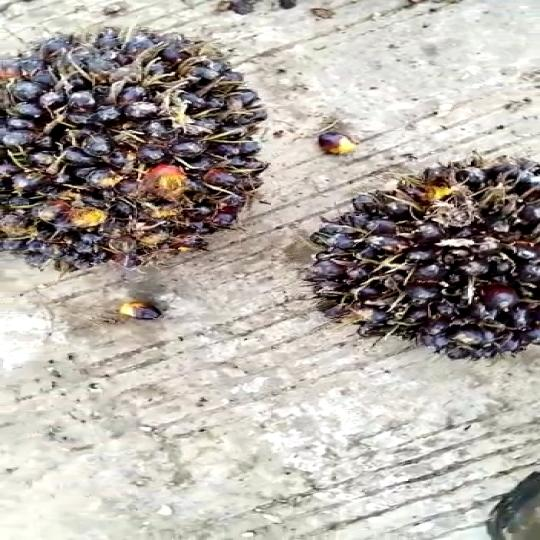mentah: (0, 28, 291, 270), (293, 144, 540, 364)
